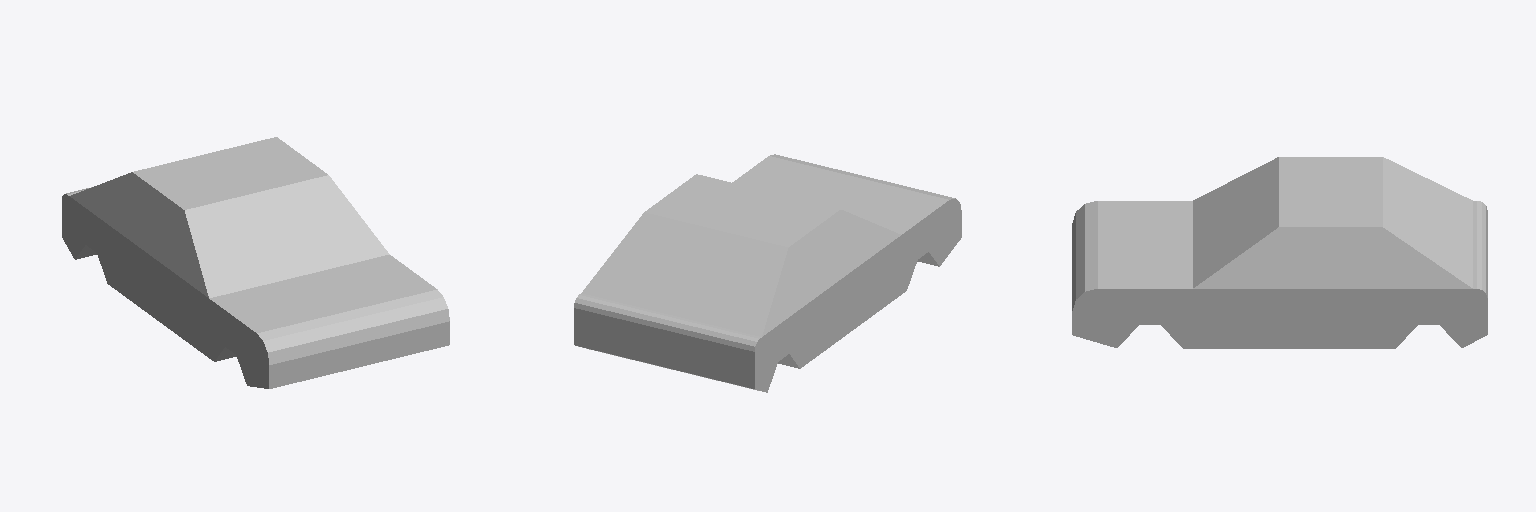
File: car1.obj
3 views of the same model, side by side, from view 1: azimuth 30°, elevation 25°; view 2: azimuth 150°, elevation 25°; view 3: azimuth 270°, elevation 25° (orthographic).
Visible parts, largest first — view 1: Cube_Cube.002; view 2: Cube_Cube.002; view 3: Cube_Cube.002.
Part boxes in pixels (left/top/right/bottom): Cube_Cube.002: left=62, top=137, right=449, bottom=388; Cube_Cube.002: left=574, top=154, right=961, bottom=392; Cube_Cube.002: left=1072, top=157, right=1487, bottom=348.
Size of the model in its own units: 2 by 1.35 by 3.98.